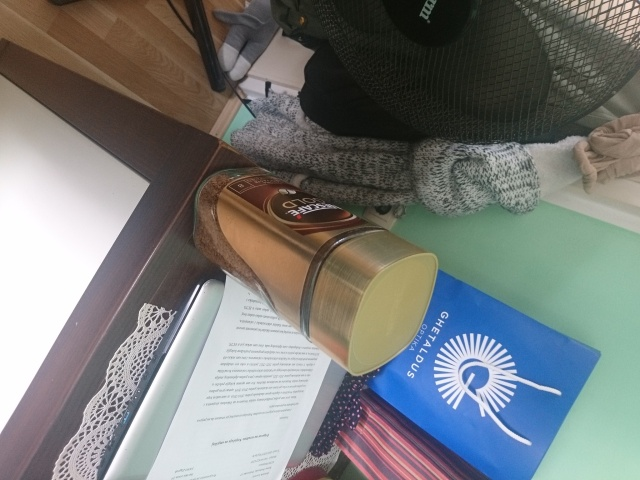Nescafe Gold 225g: (188, 163, 442, 379)
